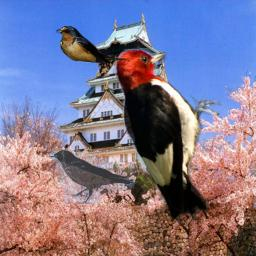Crow: (49, 148, 135, 204)
Swallow: (56, 26, 130, 63)
Woodpecker: (114, 48, 223, 227)
